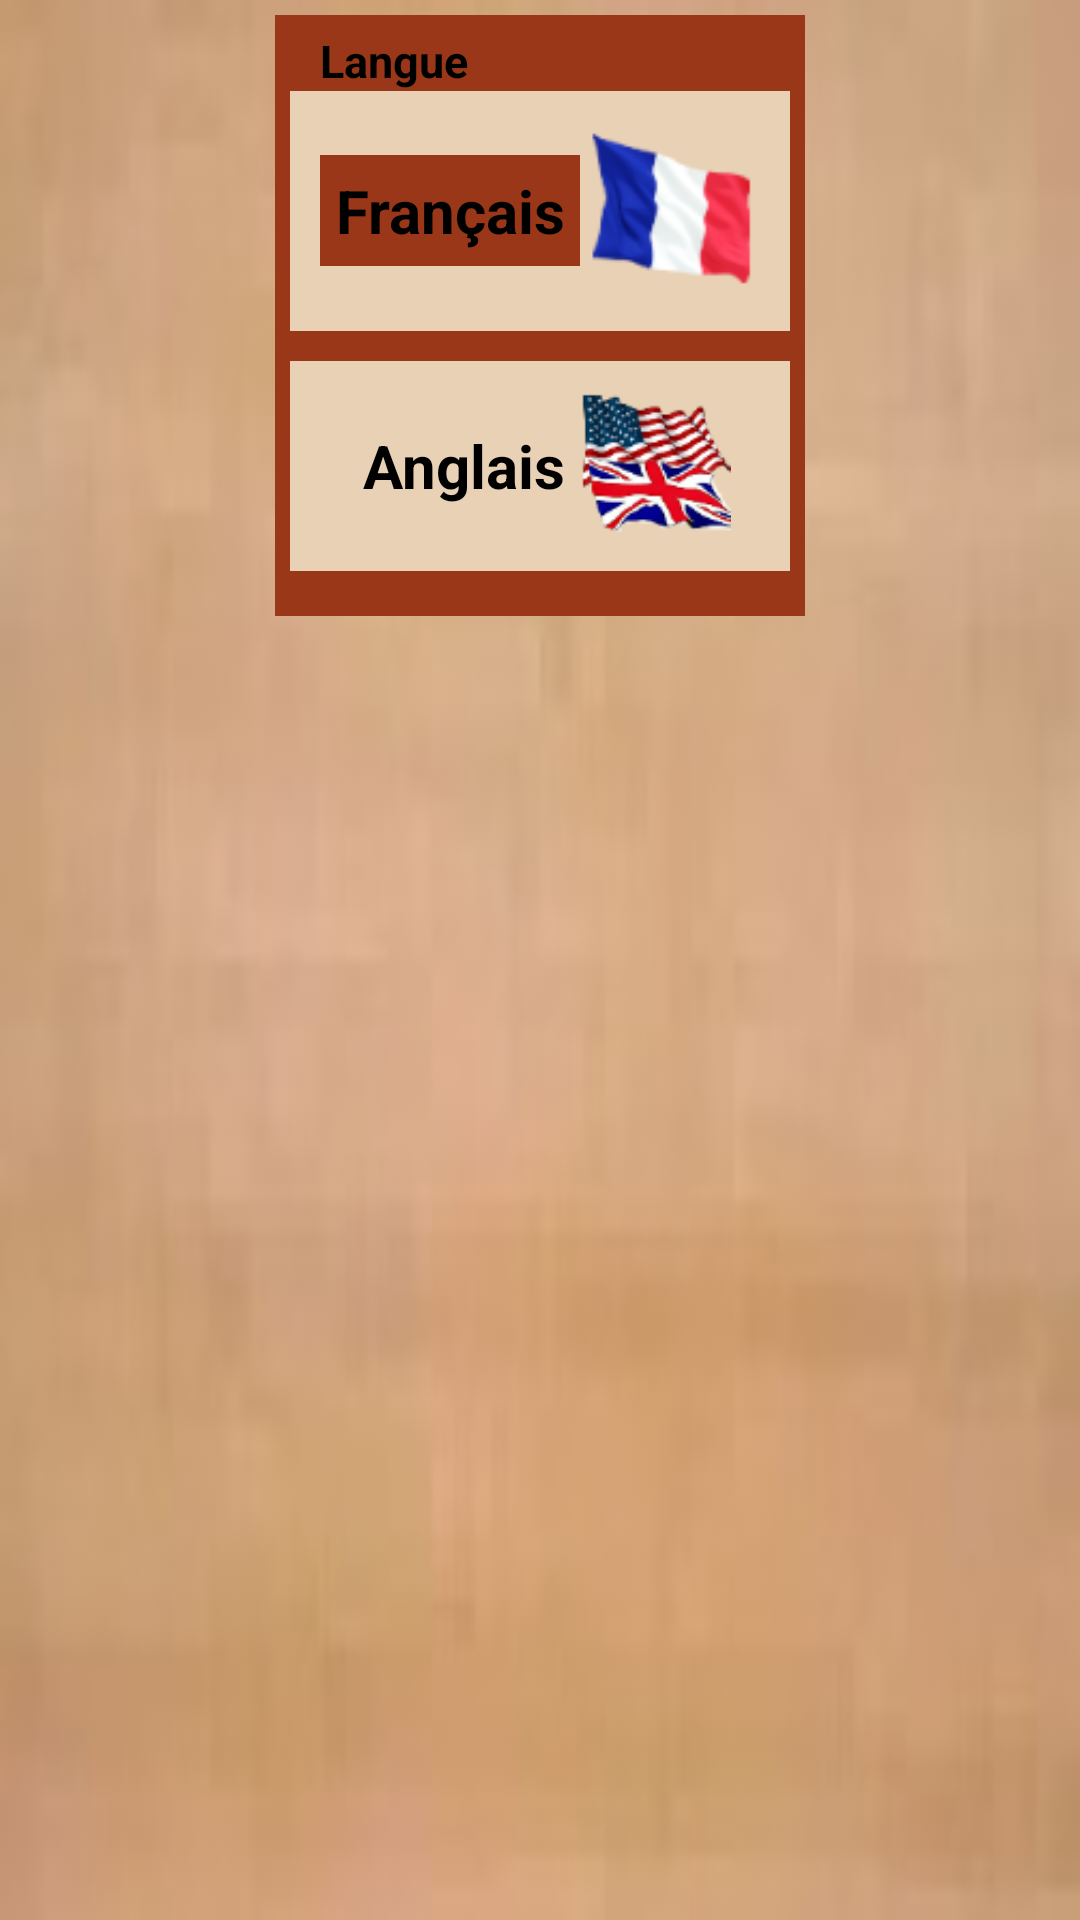

Screen size 1080*1920. Icon name, then its center in pixels as [x,y]:
francais: [671,208]
